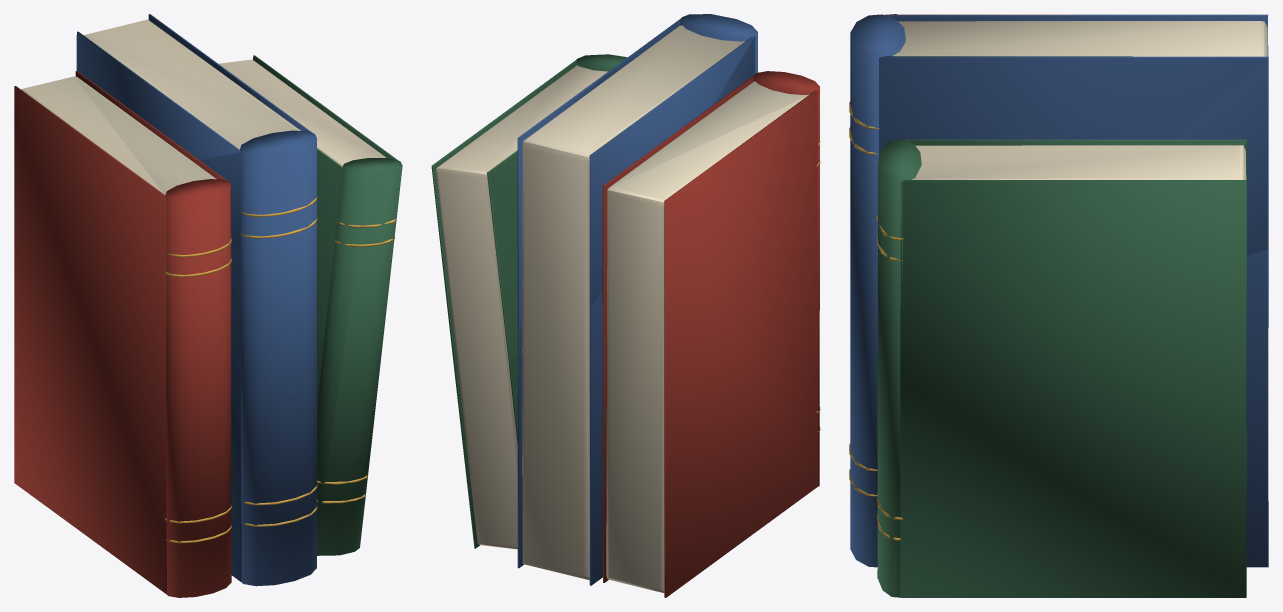
The model's file is frost_book_upright_lod2.glb.
3 renders of one model, left to right at view 1: azimuth 30°, elevation 25°; view 2: azimuth 150°, elevation 25°; view 3: azimuth 270°, elevation 25°, orthographic. The views are drawn at different scales.
Parts seen in each view (by area): view 1: frost_book_upright.001; view 2: frost_book_upright.001; view 3: frost_book_upright.001.
Part boxes in pixels (x1,y1,x2,y2): frost_book_upright.001: (14,14,402,597); frost_book_upright.001: (431,14,820,597); frost_book_upright.001: (849,14,1268,597).
Bounding box in the file's own units: 45.18 × 78.05 × 58.09.
